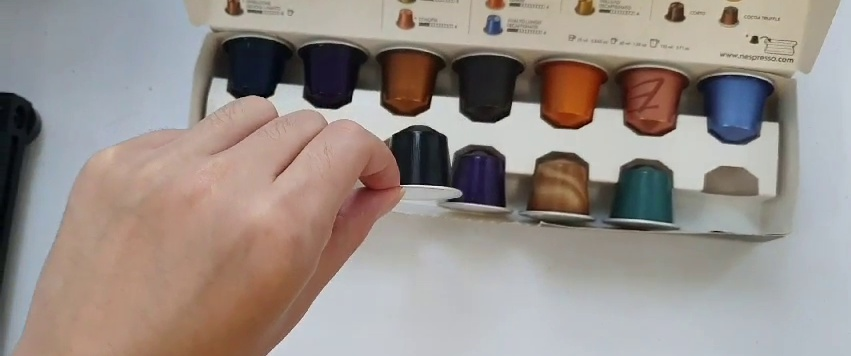capsule_10: (381, 125, 463, 201)
